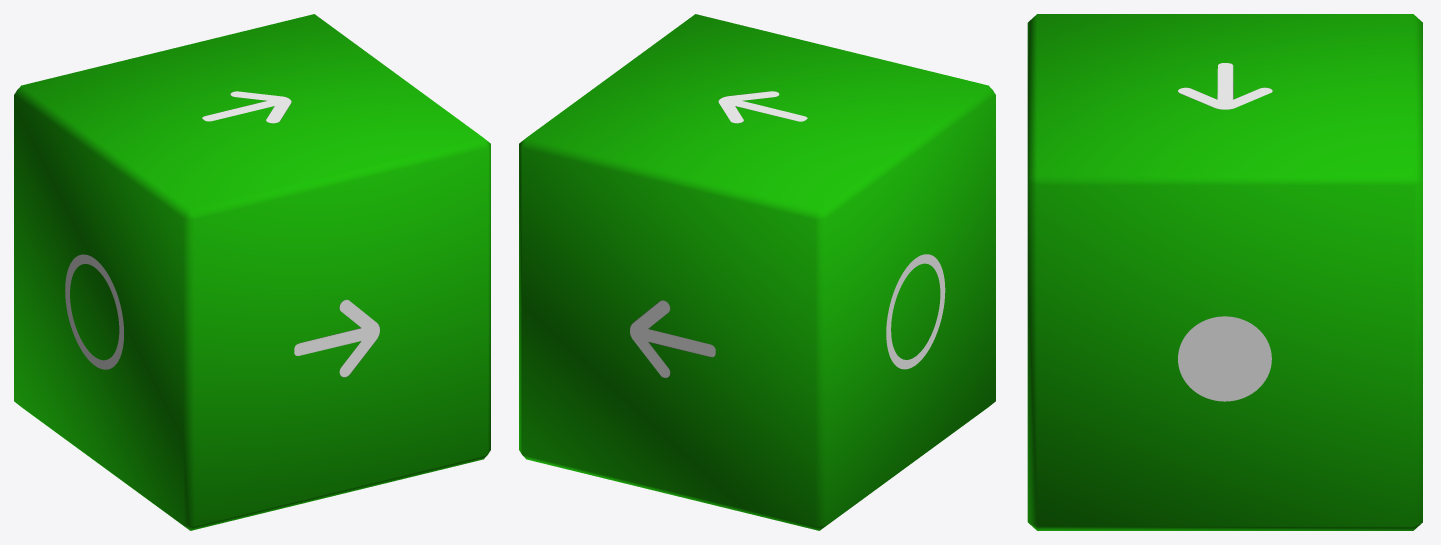
The model's file is BigBoxTapFlowBox_2_2_2_Clean_test2.fbx.
3 views of the same model, side by side, from view 1: azimuth 30°, elevation 25°; view 2: azimuth 150°, elevation 25°; view 3: azimuth 270°, elevation 25° (orthographic). The views are drawn at different scales.
Visible parts, largest first — view 1: BigBoxTapFlowBox_2_2_2_Clean_test; view 2: BigBoxTapFlowBox_2_2_2_Clean_test; view 3: BigBoxTapFlowBox_2_2_2_Clean_test.
Part boxes in pixels (bbox=[...]): BigBoxTapFlowBox_2_2_2_Clean_test: bbox=[14, 14, 490, 530]; BigBoxTapFlowBox_2_2_2_Clean_test: bbox=[519, 14, 995, 530]; BigBoxTapFlowBox_2_2_2_Clean_test: bbox=[1027, 14, 1422, 530].
Size of the model in its own units: 2.15 by 2.15 by 2.13.
